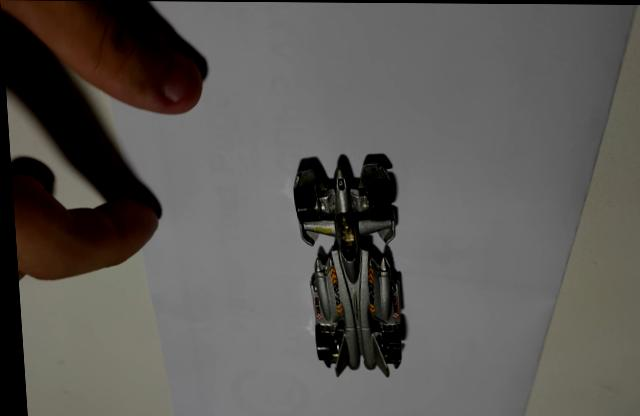05_DC121: (291, 152, 403, 376)
